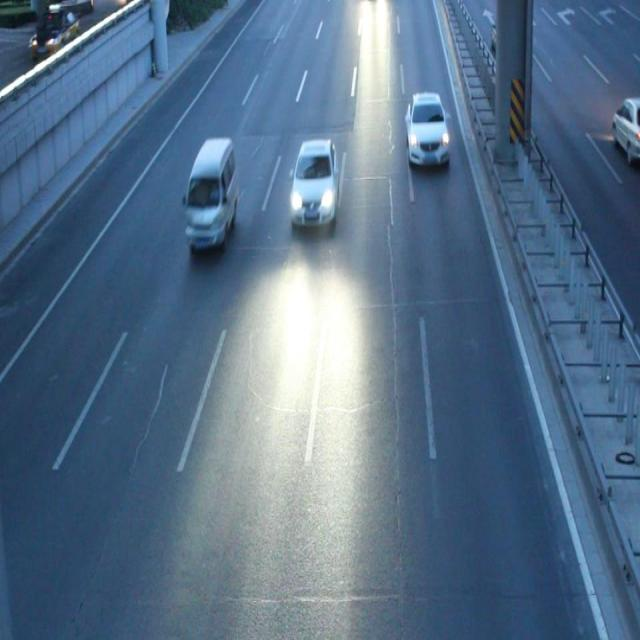car: (183, 137, 236, 252), (289, 139, 338, 227), (404, 91, 449, 165)
